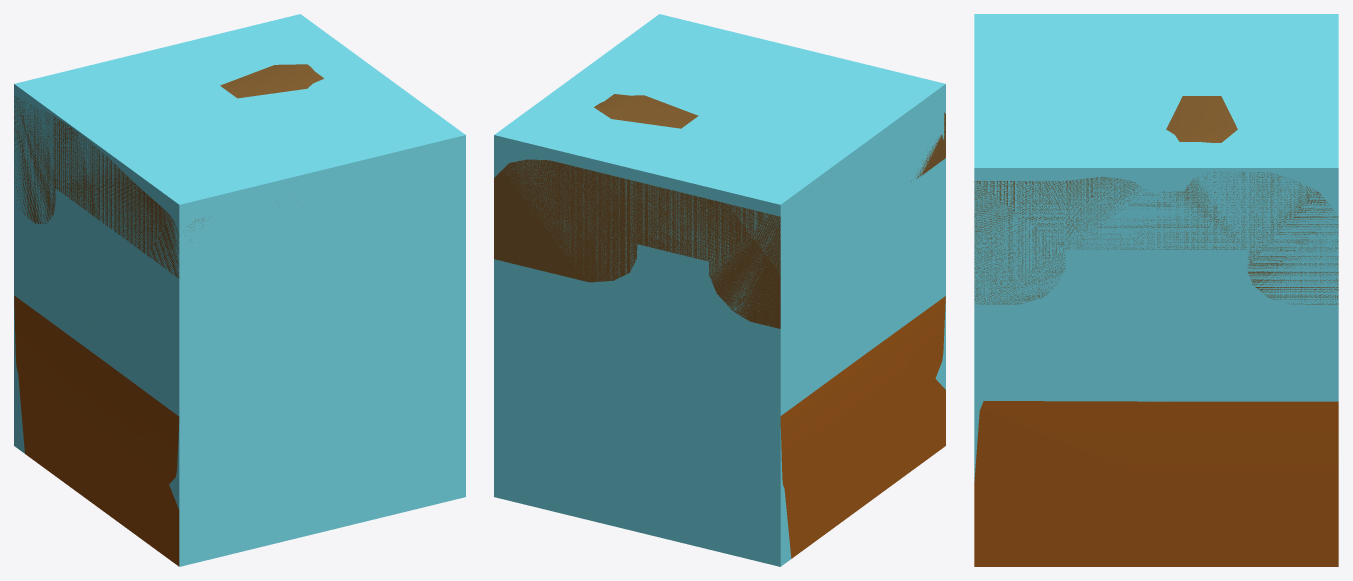
Rendered from PBOX22_Mud_02.FBX.
3 renders of one model, left to right at view 1: azimuth 30°, elevation 25°; view 2: azimuth 150°, elevation 25°; view 3: azimuth 270°, elevation 25°, orthographic. The views are drawn at different scales.
Visible parts, largest first — view 1: PBOX22_Mud_02, PBOX22_SUB_TAB_MUD_004, PBOX22_SUB_Mud_02; view 2: PBOX22_Mud_02, PBOX22_SUB_Mud_02, PBOX22_SUB_TAB_MUD_004; view 3: PBOX22_Mud_02, PBOX22_SUB_TAB_MUD_004, PBOX22_SUB_Mud_02.
Part boxes in pixels (x1,y1,x2,y2): PBOX22_Mud_02: [14, 14, 465, 566]; PBOX22_SUB_TAB_MUD_004: [14, 295, 179, 566]; PBOX22_SUB_Mud_02: [14, 64, 323, 278]; PBOX22_Mud_02: [494, 14, 945, 566]; PBOX22_SUB_Mud_02: [494, 94, 945, 328]; PBOX22_SUB_TAB_MUD_004: [780, 296, 945, 558]; PBOX22_Mud_02: [974, 14, 1338, 481]; PBOX22_SUB_TAB_MUD_004: [974, 401, 1338, 566]; PBOX22_SUB_Mud_02: [974, 96, 1338, 304].
Size of the model in its own units: 12 by 14.54 by 12.
